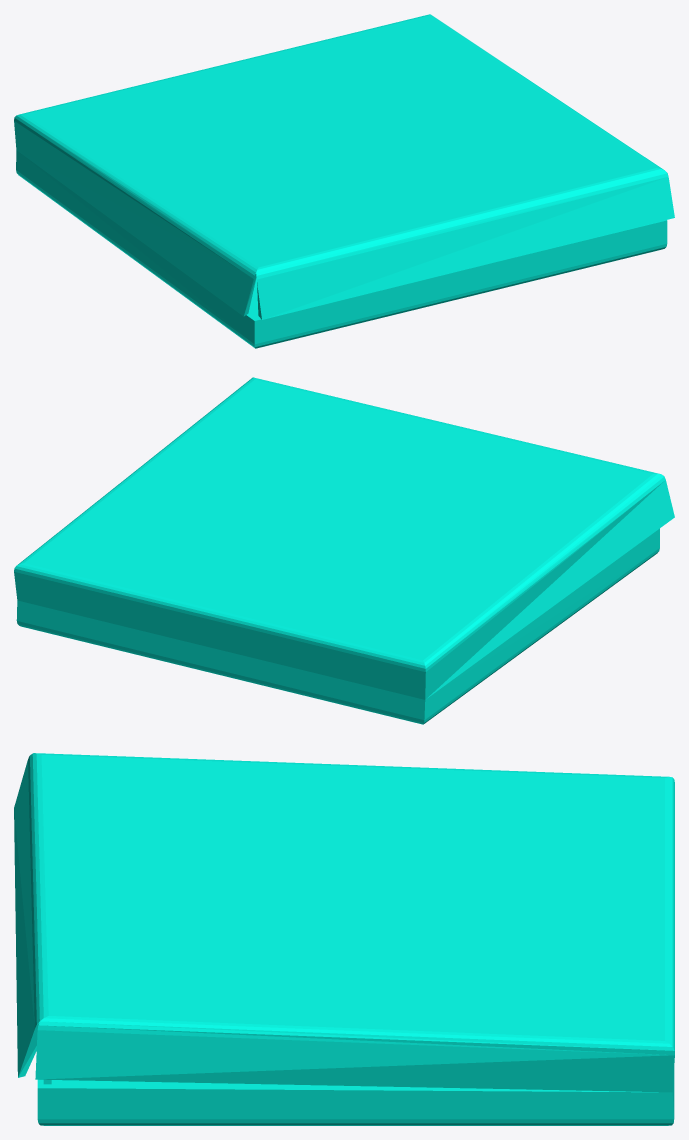
The model's file is umgebung_pizzakarton_low.FBX.
3 renders of one model, top to bottom at view 1: azimuth 30°, elevation 25°; view 2: azimuth 150°, elevation 25°; view 3: azimuth 270°, elevation 25°, orthographic. The views are drawn at different scales.
Parts seen in each view (by area): view 1: o_pizzakarton_1_low; view 2: o_pizzakarton_1_low; view 3: o_pizzakarton_1_low.
Boxes of the visible parts, left/top/right/bottom form: o_pizzakarton_1_low: left=14, top=14, right=674, bottom=348; o_pizzakarton_1_low: left=14, top=377, right=674, bottom=724; o_pizzakarton_1_low: left=14, top=753, right=674, bottom=1125.
Size of the model in its own units: 61.87 by 61.6 by 11.22.
